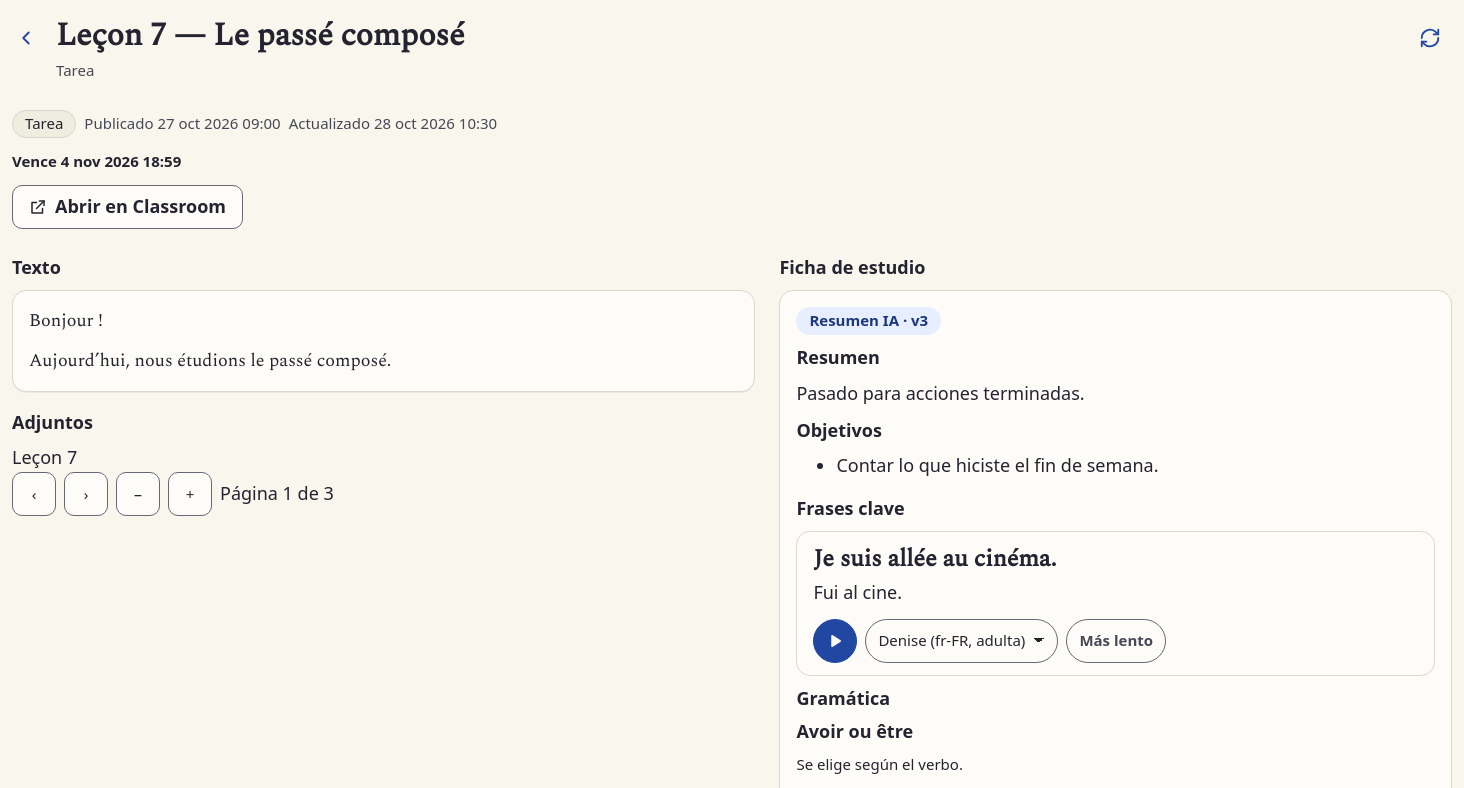
Test case: con datos guardados avisa sin conexión
Expected: the heading "Leçon 7 — Le passé composé" is shown, [56, 11, 464, 60]
Step 1. Click the button named "Actualizar publicación" → (1430, 38), box [1408, 16, 1452, 60]
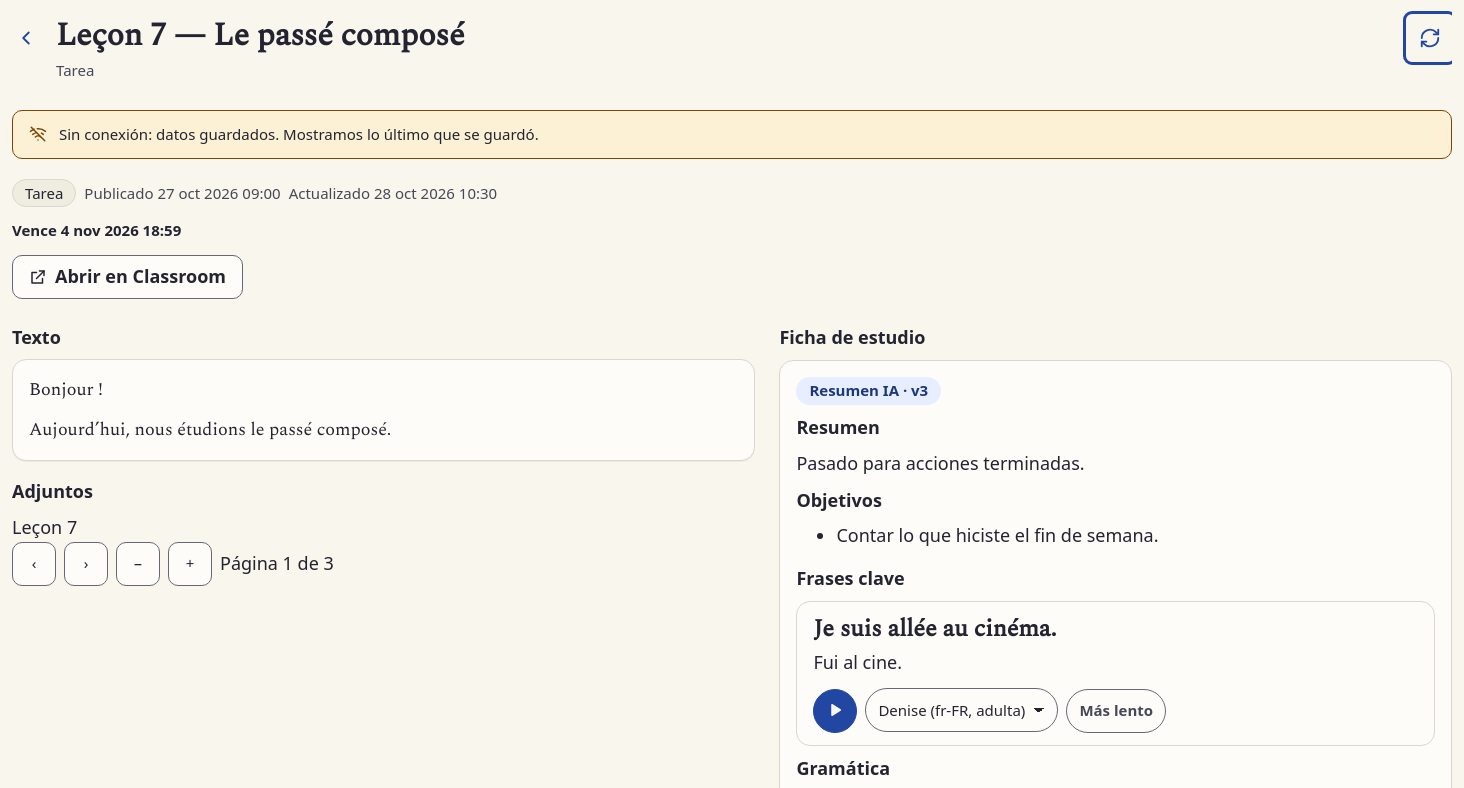
Expected: the text "Sin conexión: datos guardados" is shown, [59, 124, 539, 144]
